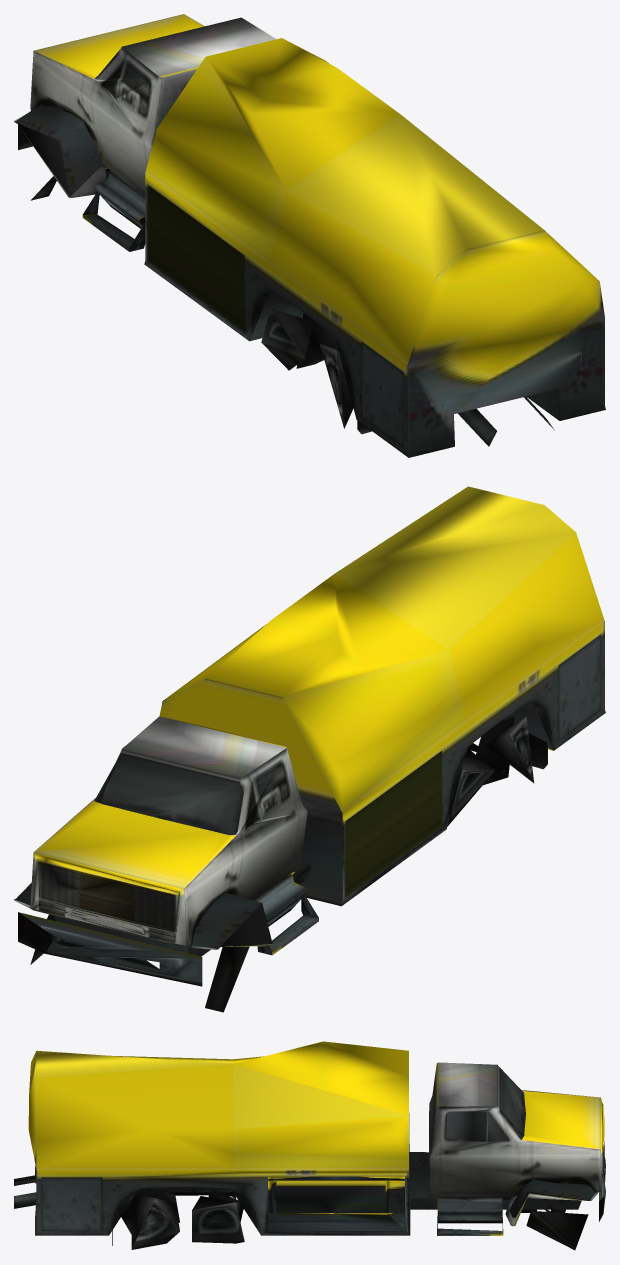
File: fuel-truck.lod1.glb
3 views of the same model, one above another, from view 1: azimuth 30°, elevation 25°; view 2: azimuth 150°, elevation 25°; view 3: azimuth 270°, elevation 25° (orthographic). The views are drawn at different scales.
Visible parts, largest first — view 1: Object_3; view 2: Object_3; view 3: Object_3.
Boxes of the visible parts, <box> form: Object_3: <box>14,14,605,457</box>; Object_3: <box>14,486,605,1012</box>; Object_3: <box>14,1041,605,1250</box>.
Bounding box in the file's own units: 2.34 × 2.58 × 8.24.
Materials: 2 (1 with a texture image).
